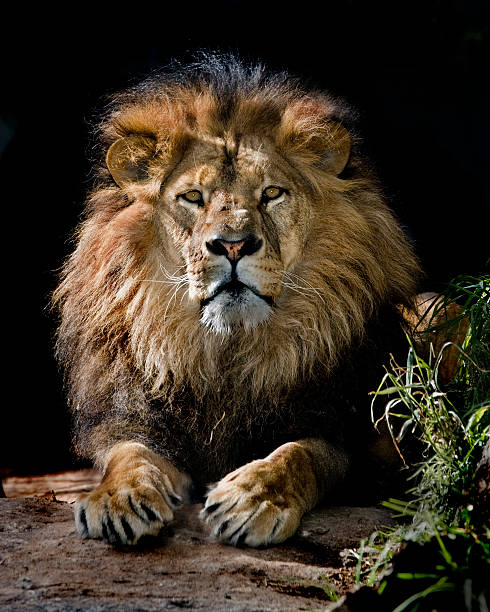lion: (42, 39, 454, 478)
